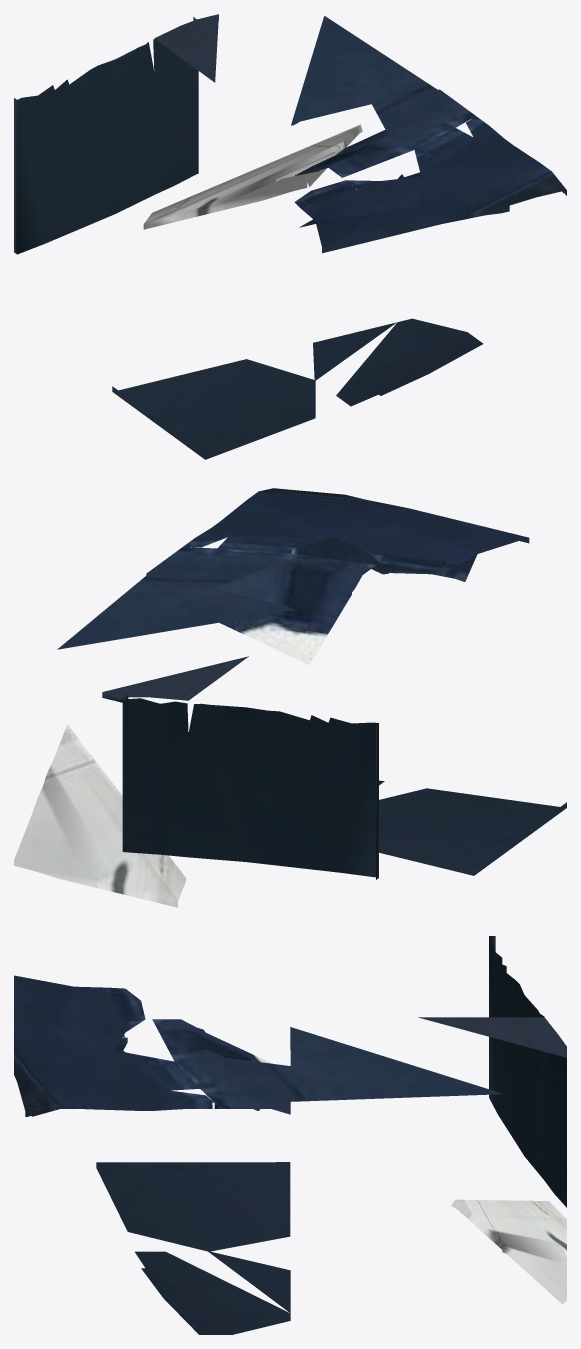
The picture shows the model from 3 angles, top to bottom: view 1: azimuth 30°, elevation 25°; view 2: azimuth 150°, elevation 25°; view 3: azimuth 270°, elevation 25°; orthographic projection. The views are drawn at different scales.
Visible parts, largest first — view 1: 30436272704370427523_1; view 2: 30436272704370427523_1; view 3: 30436272704370427523_1.
Part boxes in pixels (<box>): 30436272704370427523_1: <box>14,14,566,459</box>; 30436272704370427523_1: <box>14,488,566,907</box>; 30436272704370427523_1: <box>14,936,566,1334</box>.
Size of the model in its own units: 27.32 by 18.03 by 38.26.
Materials: 1 (1 with a texture image).
